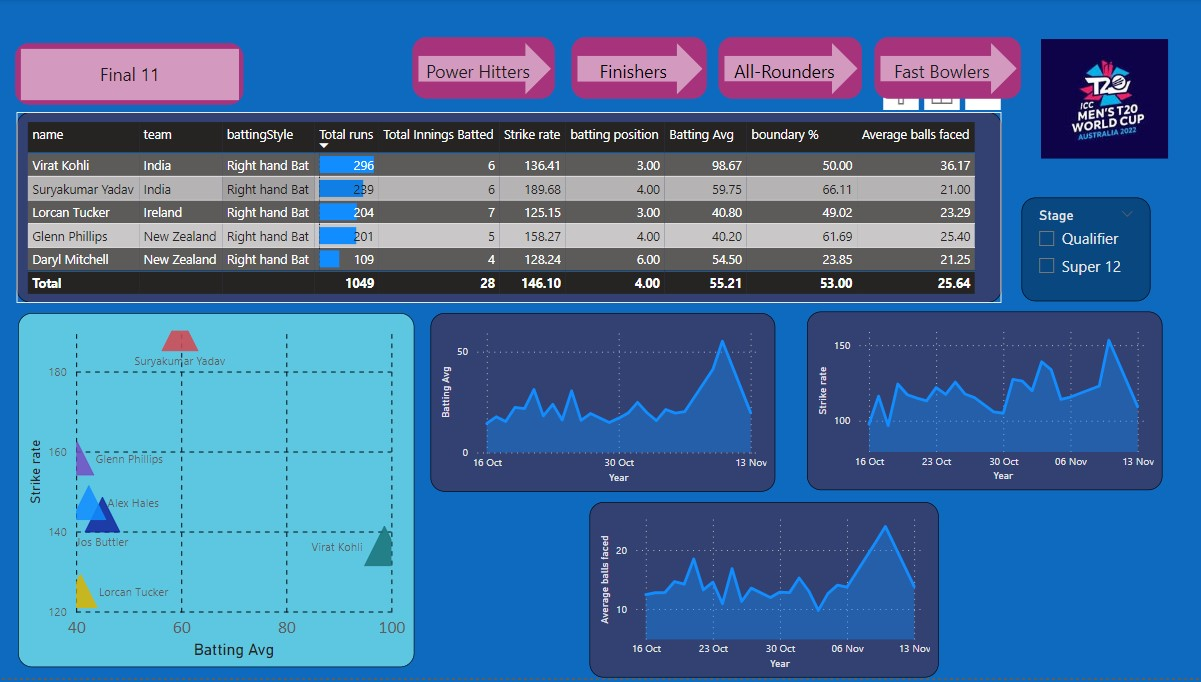

The page's visual inventory and layout, read from the dashboard file:
{"tool":"powerbi","page":{"name":"Anchors/Middle Order","canvas":[1280,720],"ordinal":2},"visuals":[{"type":"tableEx","fields":{"Values":["dim_players1.name","dim_players1.team","dim_players1.battingStyle","key_measures (2).Total runs","key_measures (2).Total Innings Batted","key_measures (2).Strike rate","key_measures (2).batting position","key_measures (2).Batting Avg","key_measures (2).boundary %","key_measures (2).Average balls faced"]},"box":[18,120,1044,202],"z":0},{"type":"scatterChart","fields":{"X":["key_measures (2).Batting Avg"],"Category":["dim_players1.name"],"Y":["key_measures (2).Strike rate"],"Series":["dim_players1.name"],"Size":["key_measures (2).Total runs"]},"box":[18.3,333.3,420,375],"z":1000},{"type":"areaChart","fields":{"Y":["key_measures (2).Batting Avg"],"Category":["dim_match_summary1.matchDate.Variation.Date Hierarchy.Year","dim_match_summary1.matchDate.Variation.Date Hierarchy.Quarter","dim_match_summary1.matchDate.Variation.Date Hierarchy.Month","dim_match_summary1.matchDate.Variation.Date Hierarchy.Day"]},"box":[456.2,333.8,365.6,189.1],"z":2000},{"type":"areaChart","fields":{"Y":["key_measures (2).Strike rate"],"Category":["dim_match_summary1.matchDate.Variation.Date Hierarchy.Year","dim_match_summary1.matchDate.Variation.Date Hierarchy.Quarter","dim_match_summary1.matchDate.Variation.Date Hierarchy.Month","dim_match_summary1.matchDate.Variation.Date Hierarchy.Day"]},"box":[855.1,332.2,376.7,189.1],"z":3000},{"type":"areaChart","fields":{"Y":["key_measures (2).Average balls faced"],"Category":["dim_match_summary1.matchDate.Variation.Date Hierarchy.Year","dim_match_summary1.matchDate.Variation.Date Hierarchy.Quarter","dim_match_summary1.matchDate.Variation.Date Hierarchy.Month","dim_match_summary1.matchDate.Variation.Date Hierarchy.Day"]},"box":[624.6,534,370.3,186],"z":4000},{"type":"slicer","fields":{"Values":["dim_match_summary1.Stage"]},"box":[1082.4,211.4,136.7,109.7],"z":5000},{"type":"image","box":[1061.7,38.1,217.7,136.7],"z":6000},{"type":"actionButton","box":[926.7,41.7,155,65],"z":7000},{"type":"actionButton","box":[605.6,41.3,143,65.2],"z":8000},{"type":"actionButton","box":[437.1,41.3,151,65.2],"z":9000},{"type":"actionButton","box":[761.7,41.7,151.7,65],"z":10000},{"type":"actionButton","title":"Anchors","box":[16.7,48.3,241.7,65],"z":10001}]}

Visuals, with their boxes in screenshot pixels (x1, y1, x2, y2), scaled from the page's 1280x720 canvas onto the 1201x682 screenshot:
tableEx - dim_players1.name x dim_players1.team: BBox(17, 114, 996, 305)
scatterChart - key_measures (2).Batting Avg x dim_players1.name: BBox(17, 316, 411, 671)
areaChart - key_measures (2).Batting Avg x dim_match_summary1.matchDate.Variation.Date Hierarchy.Year: BBox(428, 316, 771, 495)
areaChart - key_measures (2).Strike rate x dim_match_summary1.matchDate.Variation.Date Hierarchy.Year: BBox(802, 315, 1156, 494)
areaChart - key_measures (2).Average balls faced x dim_match_summary1.matchDate.Variation.Date Hierarchy.Year: BBox(586, 506, 933, 681)
slicer - dim_match_summary1.Stage: BBox(1016, 200, 1144, 304)
image: BBox(996, 36, 1200, 166)
actionButton: BBox(870, 39, 1015, 101)
actionButton: BBox(568, 39, 702, 101)
actionButton: BBox(410, 39, 552, 101)
actionButton: BBox(715, 39, 857, 101)
"Anchors" actionButton: BBox(16, 46, 242, 107)
